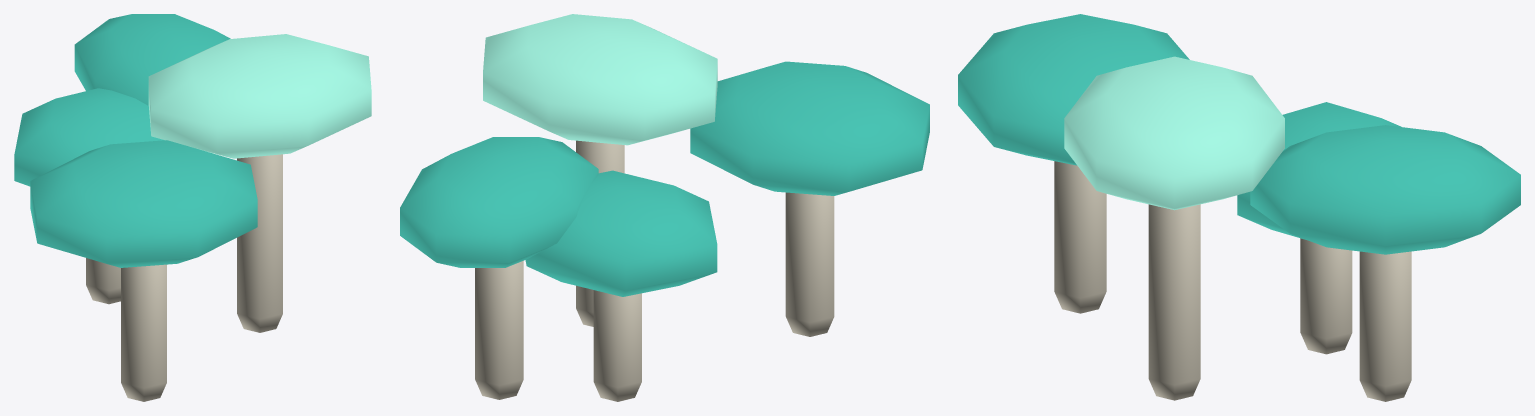
Rendered from prop_mush3_934d.glb.
The picture shows the model from 3 angles, left to right: view 1: azimuth 30°, elevation 25°; view 2: azimuth 150°, elevation 25°; view 3: azimuth 270°, elevation 25°; orthographic projection. The views are drawn at different scales.
Parts seen in each view (by area): view 1: prop_mush3_934d; view 2: prop_mush3_934d; view 3: prop_mush3_934d.
Part boxes in pixels (bbox=[...]): prop_mush3_934d: bbox=[14, 14, 371, 401]; prop_mush3_934d: bbox=[400, 14, 929, 401]; prop_mush3_934d: bbox=[958, 14, 1520, 401].
Bounding box in the file's own units: 0.3574 × 0.2555 × 0.4132.
2 materials, 2 textured.
